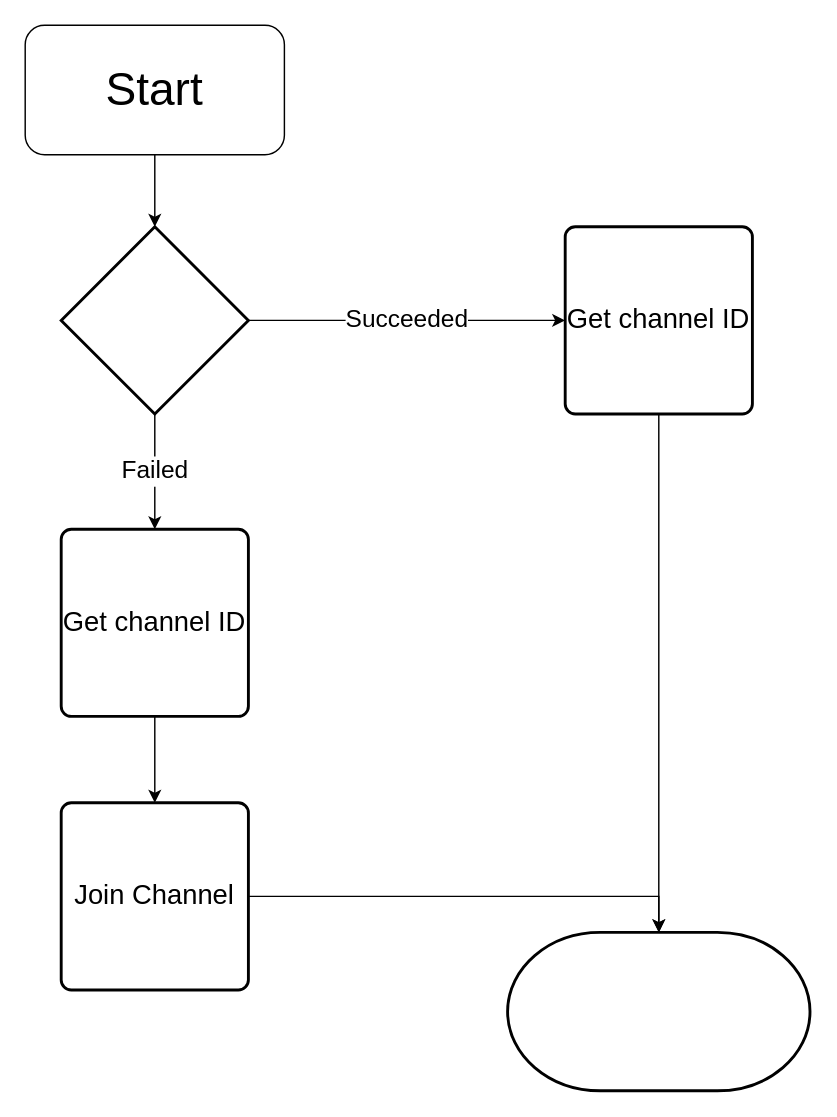
This 837x1117 diagram has some shape labels left out. The shapes that lost their labels are listed below. From the top down, each one's centre as x and y in pixels, then its label:
At pixel 154 320: "Create channel".
At pixel 658 1011: "End".
